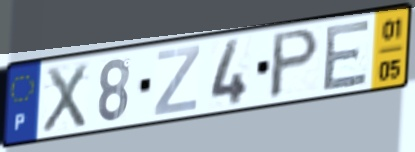4: (208, 35, 251, 108)
8: (96, 57, 132, 124)
E: (320, 16, 373, 94)
P: (266, 26, 323, 103)
X: (39, 60, 89, 136)
Z: (152, 43, 202, 118)
